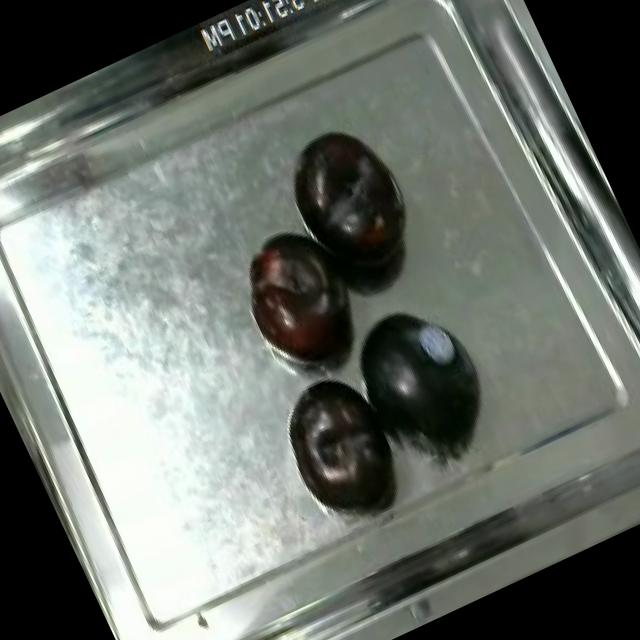Fruit: (330, 281, 505, 473), (270, 107, 432, 296), (266, 360, 419, 534), (222, 214, 368, 384)
